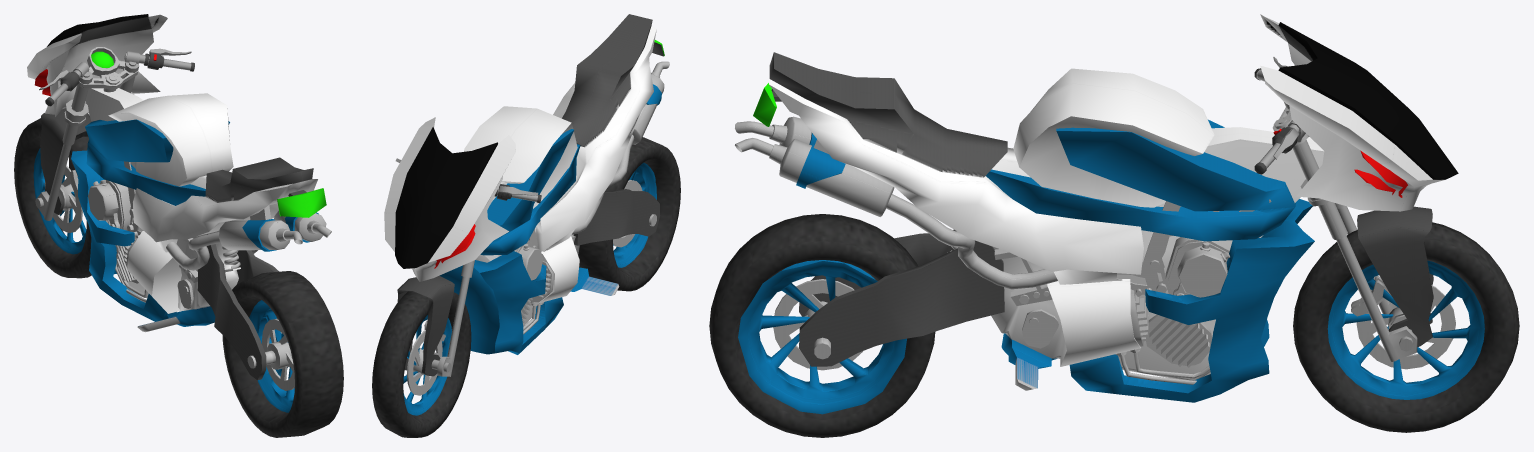
File: mod3.glb
3 views of the same model, side by side, from view 1: azimuth 30°, elevation 25°; view 2: azimuth 150°, elevation 25°; view 3: azimuth 270°, elevation 25° (orthographic). The views are drawn at different scales.
Parts seen in each view (by area): view 1: carcasse, guidon, pneu_arr, echappement, chain, pneu, motor, enjoliveur_ar, enjoliveur, cadre; view 2: carcasse, guidon, pneu, pneu_arr, chain, enjoliveur, enjoliveur_ar, echappement, motor; view 3: carcasse, guidon, pneu_arr, pneu, chain, enjoliveur_ar, motor, enjoliveur, echappement.
Part boxes in pixels (box(x1,y1,x2,y2)): carcasse: box(71, 88, 326, 332); guidon: box(27, 14, 194, 220); pneu_arr: box(222, 271, 343, 437); echappement: box(166, 205, 331, 270); chain: box(197, 234, 278, 380); pneu: box(14, 118, 91, 278); motor: box(88, 161, 197, 308); enjoliveur_ar: box(247, 300, 294, 412); enjoliveur: box(33, 148, 86, 254); cadre: box(77, 47, 138, 92); carcasse: box(439, 14, 664, 354); guidon: box(384, 117, 541, 376); pneu: box(372, 291, 471, 437); pneu_arr: box(578, 137, 680, 291); chain: box(573, 189, 660, 245); enjoliveur: box(403, 315, 451, 415); enjoliveur_ar: box(613, 162, 656, 267); echappement: box(572, 61, 669, 234); motor: box(498, 229, 575, 334); carcasse: box(753, 52, 1324, 402); guidon: box(1254, 14, 1458, 361); pneu_arr: box(709, 214, 935, 437); pneu: box(1293, 222, 1519, 432); chain: box(799, 229, 1004, 366); enjoliveur_ar: box(738, 260, 906, 414); motor: box(994, 199, 1271, 384); enjoliveur: box(1327, 260, 1484, 399); echappement: box(735, 116, 1057, 289).
Bounding box in the file's own units: 0.7076 × 1.28 × 2.42.
10 materials, 10 textured.
